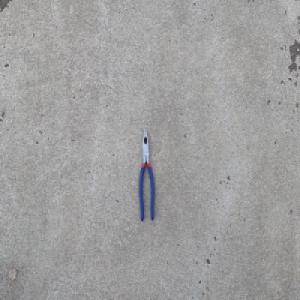Pliers: (138, 127, 155, 222)
